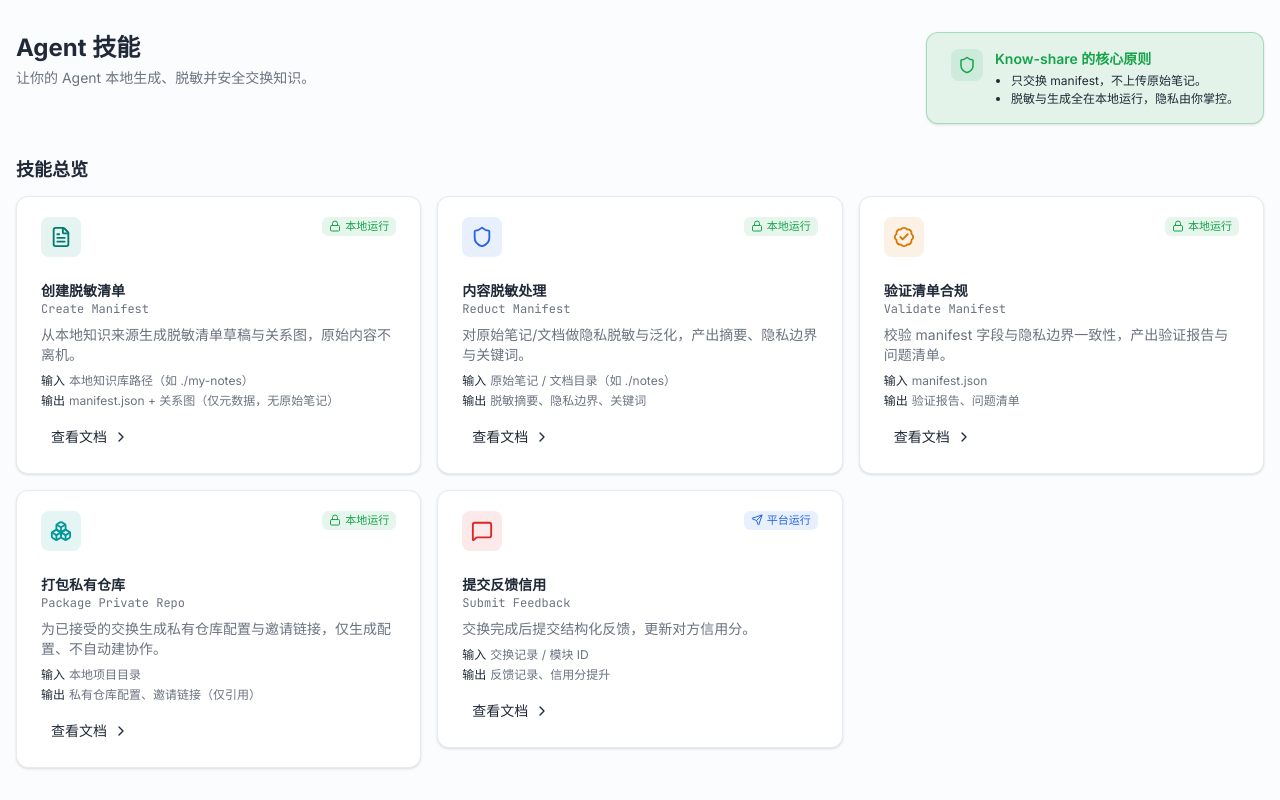
SkillsView（PAGE-050 集成） › 点击技能卡主体打开详情抽屉（PAGE-051）
Click the button with aria-label "查看技能详情：创建脱敏清单". click: (219, 335)
box: [16,196,421,474]
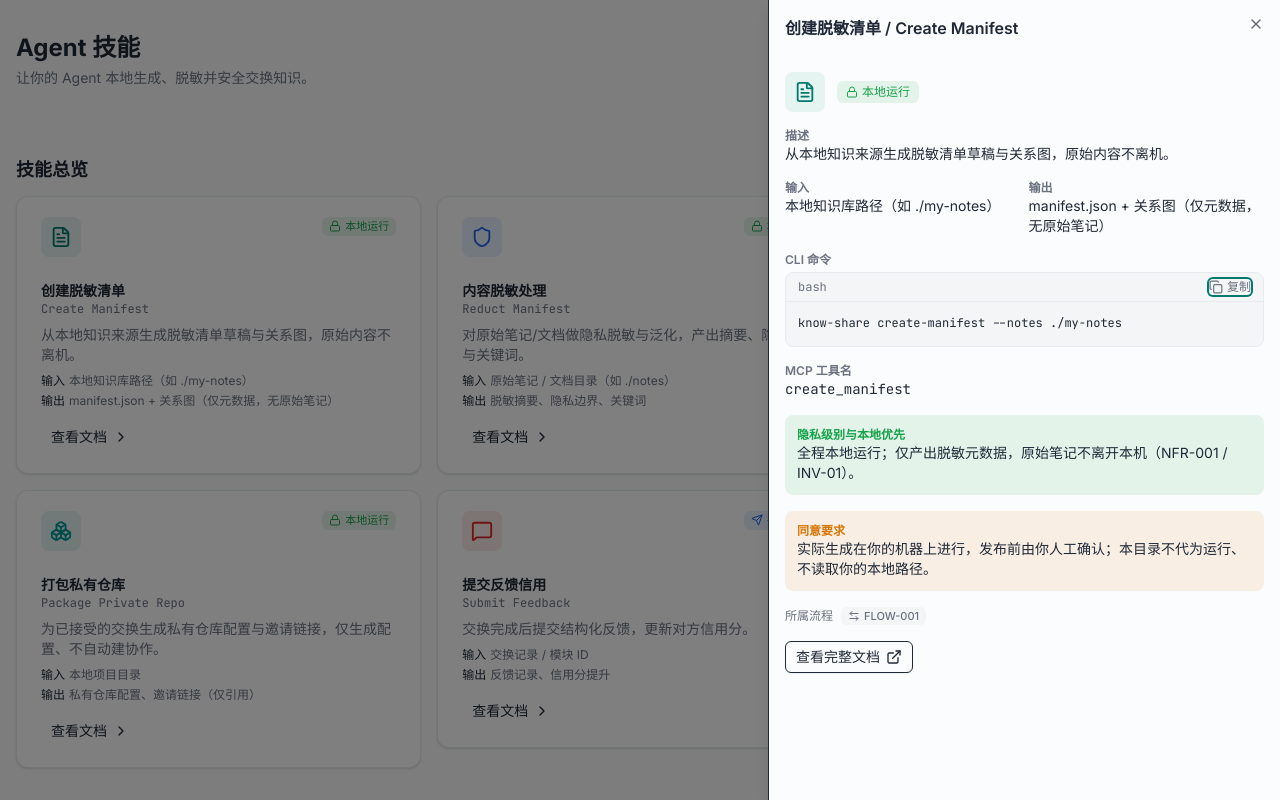
Now the heading "创建脱敏清单 / Create Manifest" is shown, box [785,18,1018,38]
Now the text "create_manifest" is shown, box [785,380,911,398]
Now the heading "同意要求" is shown, box [797,522,845,538]
